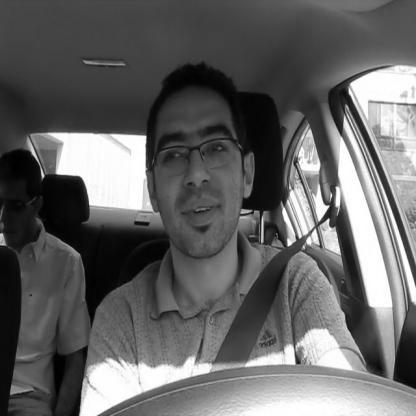seatbelt: (137, 47, 347, 370)
